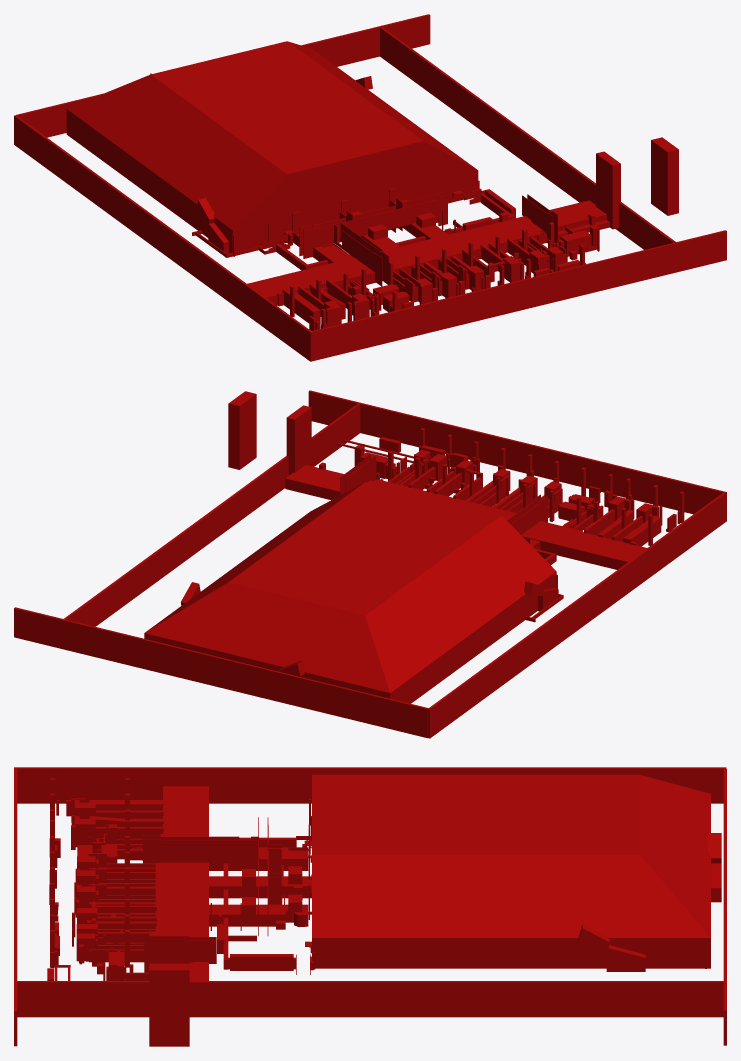
File: Blockable.fbx
3 renders of one model, top to bottom at view 1: azimuth 30°, elevation 25°; view 2: azimuth 150°, elevation 25°; view 3: azimuth 270°, elevation 25°, orthographic. The views are drawn at different scales.
Visible parts, largest first — view 1: BlockableSV; view 2: BlockableSV; view 3: BlockableSV.
Part boxes in pixels (box(x1,y1,x2,y2)): BlockableSV: box(14, 14, 726, 361); BlockableSV: box(14, 390, 726, 738); BlockableSV: box(14, 767, 726, 1046).
Bounding box in the file's own units: 7945 × 1287 × 9615.
